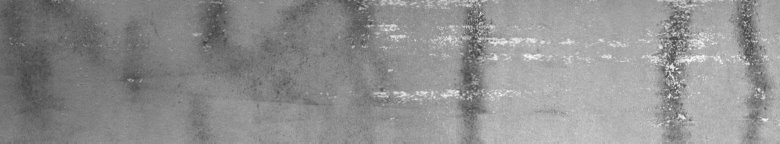hc: (647, 4, 768, 126)
